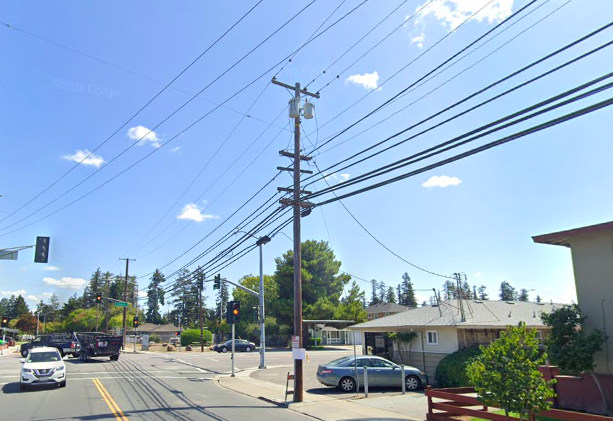utility_pole: (262, 63, 329, 221)
